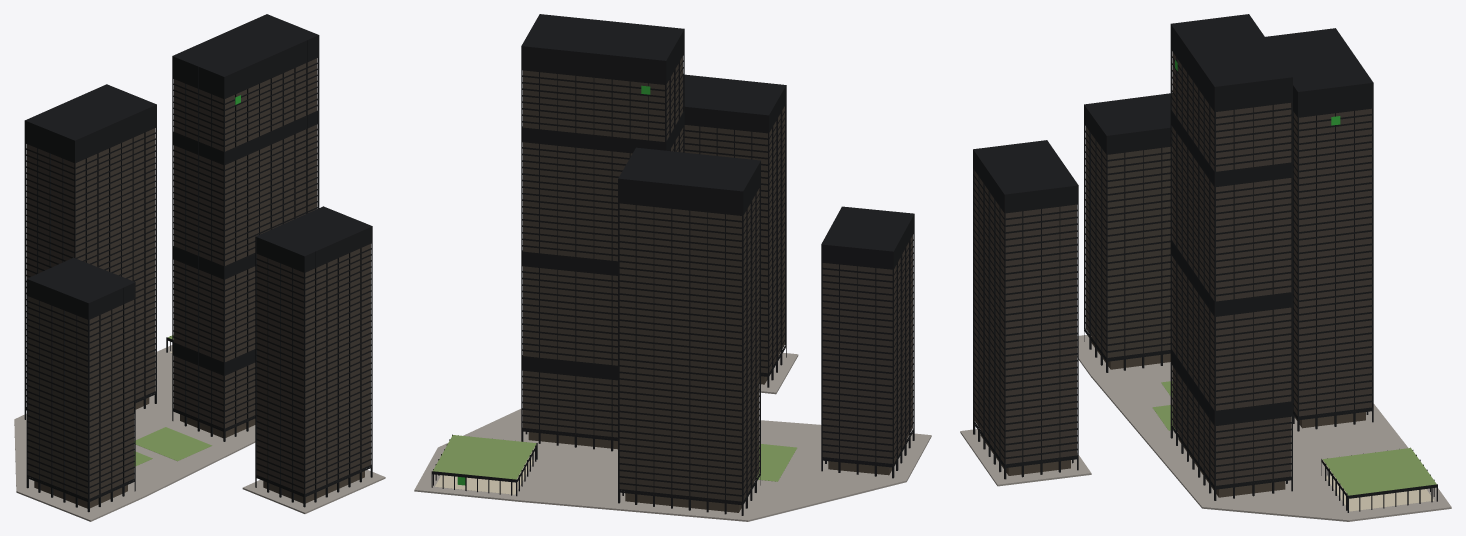
Rendered from toronto-dominion-centre-far.glb.
3 views of the same model, side by side, from view 1: azimuth 30°, elevation 25°; view 2: azimuth 150°, elevation 25°; view 3: azimuth 270°, elevation 25° (orthographic). The views are drawn at different scales.
Visible parts, largest first — view 1: toronto-dominion-centre-0-glass, toronto-dominion-centre-0-steel, toronto-dominion-centre-0-granite, toronto-dominion-centre-0-lobby, toronto-dominion-centre-0-lawn; view 2: toronto-dominion-centre-0-glass, toronto-dominion-centre-0-steel, toronto-dominion-centre-0-granite, toronto-dominion-centre-0-lawn, toronto-dominion-centre-0-lobby, toronto-dominion-centre-0-lamp; view 3: toronto-dominion-centre-0-glass, toronto-dominion-centre-0-steel, toronto-dominion-centre-0-granite, toronto-dominion-centre-0-lawn, toronto-dominion-centre-0-lobby, toronto-dominion-centre-0-lamp.
Boxes of the visible parts, left/top/right/bottom form: toronto-dominion-centre-0-glass: left=26, top=58, right=370, bottom=498; toronto-dominion-centre-0-steel: left=24, top=14, right=372, bottom=512; toronto-dominion-centre-0-granite: left=14, top=345, right=385, bottom=521; toronto-dominion-centre-0-lobby: left=34, top=397, right=364, bottom=508; toronto-dominion-centre-0-lawn: left=134, top=335, right=211, bottom=466; toronto-dominion-centre-0-glass: left=523, top=56, right=912, bottom=501; toronto-dominion-centre-0-steel: left=431, top=14, right=914, bottom=515; toronto-dominion-centre-0-granite: left=414, top=352, right=931, bottom=521; toronto-dominion-centre-0-lawn: left=433, top=435, right=796, bottom=481; toronto-dominion-centre-0-lobby: left=528, top=355, right=907, bottom=512; toronto-dominion-centre-0-lamp: left=435, top=447, right=534, bottom=494; toronto-dominion-centre-0-glass: left=974, top=52, right=1371, bottom=485; toronto-dominion-centre-0-steel: left=973, top=14, right=1437, bottom=512; toronto-dominion-centre-0-granite: left=960, top=335, right=1451, bottom=521; toronto-dominion-centre-0-lawn: left=1152, top=381, right=1436, bottom=495; toronto-dominion-centre-0-lobby: left=980, top=339, right=1365, bottom=497; toronto-dominion-centre-0-lamp: left=1323, top=460, right=1434, bottom=511.
Bounding box in the file's own units: 226 × 223 × 239.
